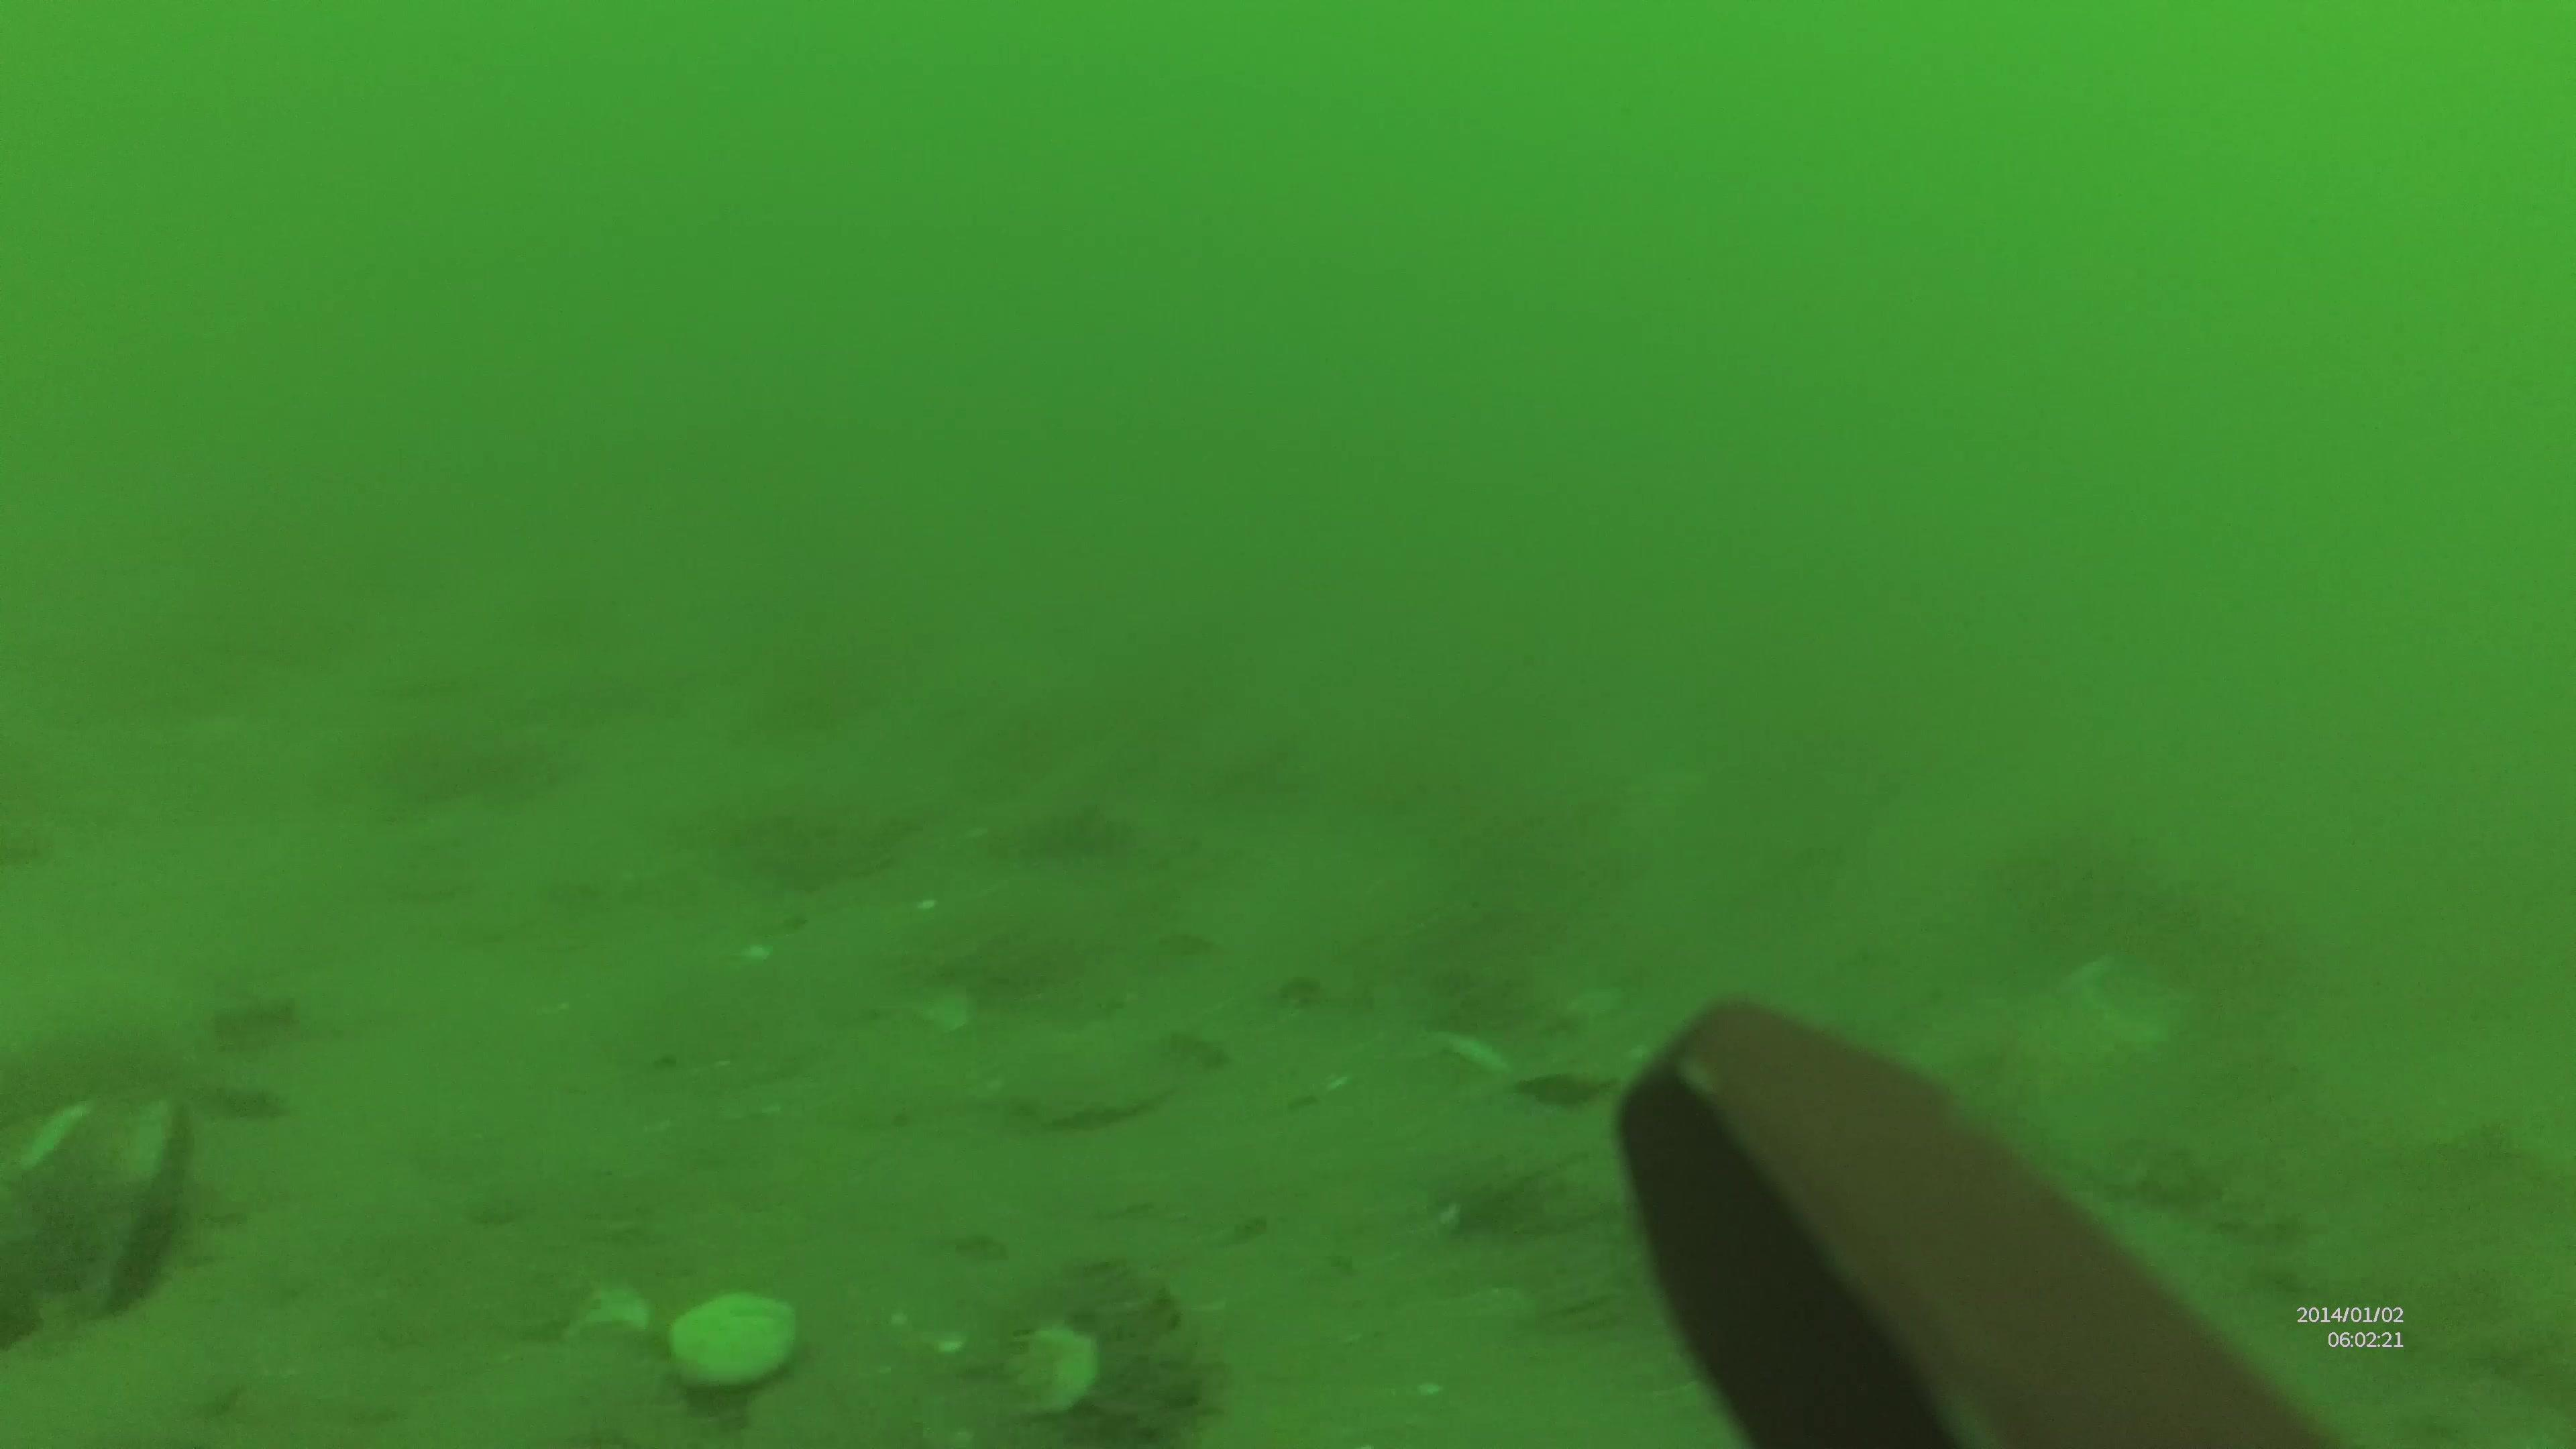scallop: (665, 1284, 807, 1394)
